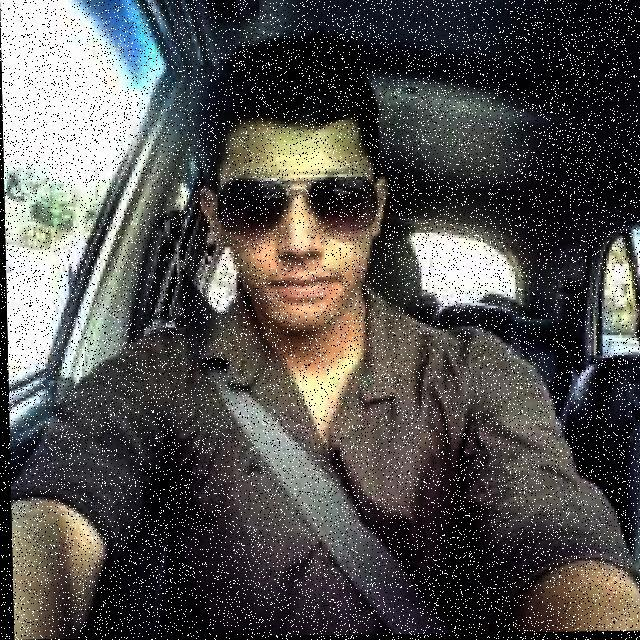seatbelt: (163, 298, 498, 638)
